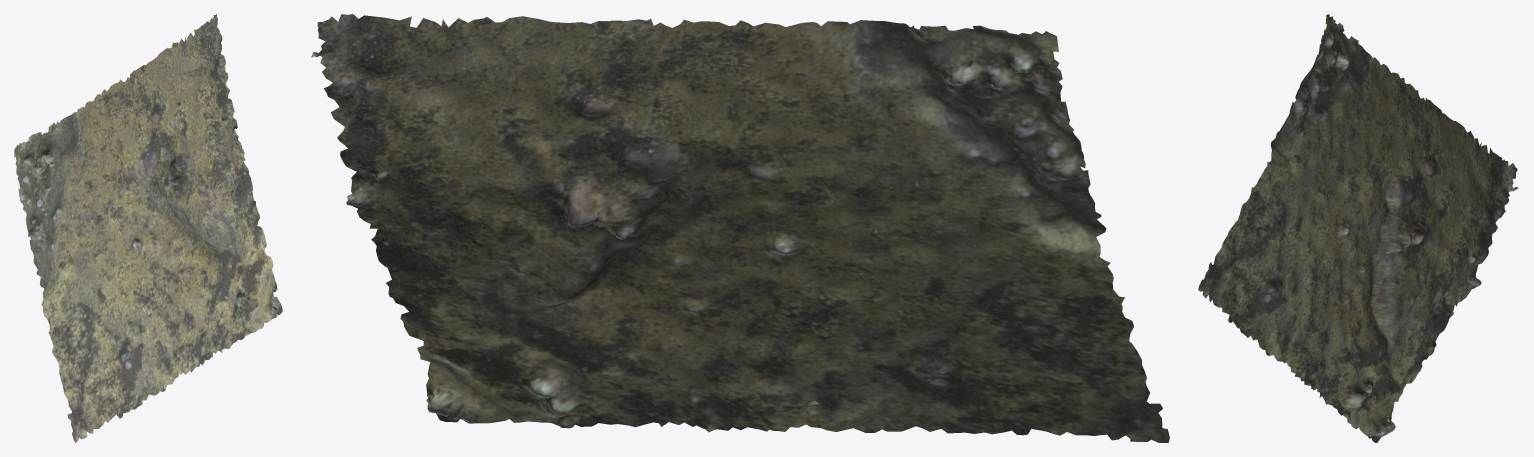
Rendered from tile_40.obj.
3 views of the same model, side by side, from view 1: azimuth 30°, elevation 25°; view 2: azimuth 150°, elevation 25°; view 3: azimuth 270°, elevation 25° (orthographic). The views are drawn at different scales.
Size of the model in its own units: 1.14 by 0.9499 by 0.9932.
Materials: 1 (1 with a texture image).
